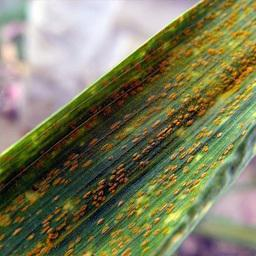Wheat: (58, 109, 174, 228), (0, 163, 48, 256), (111, 71, 200, 102), (177, 26, 243, 65), (209, 76, 254, 125)
